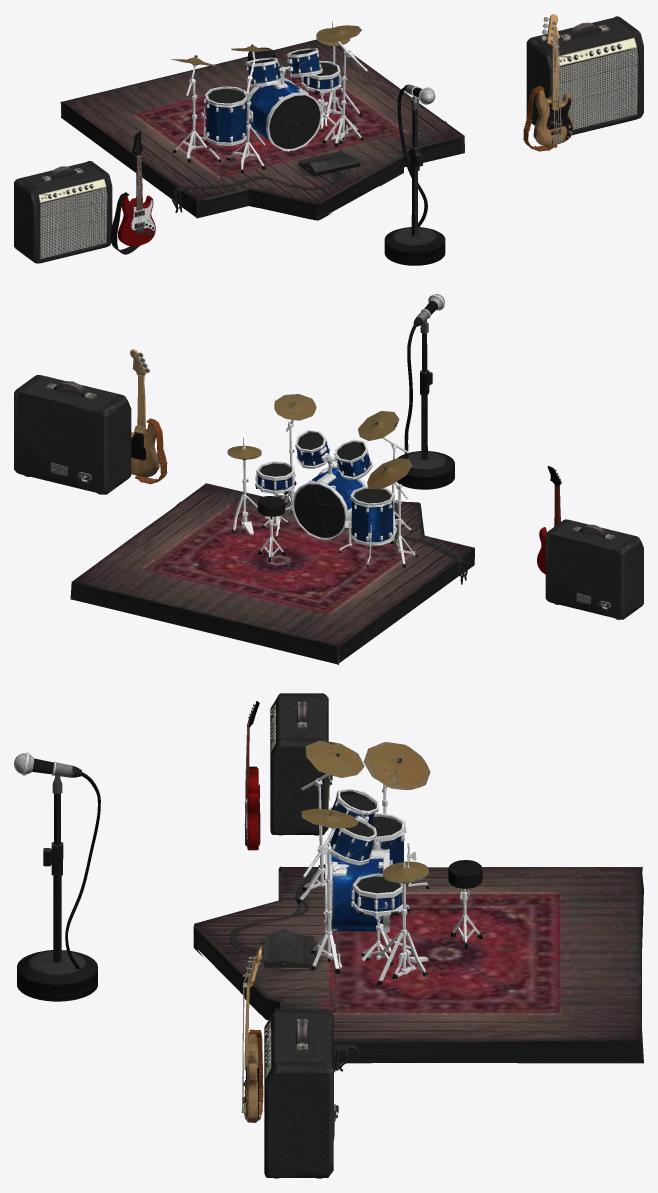
Rendered from stage-96IX1GSD.glb.
The picture shows the model from 3 angles, top to bottom: view 1: azimuth 30°, elevation 25°; view 2: azimuth 150°, elevation 25°; view 3: azimuth 270°, elevation 25°; orthographic projection. The views are drawn at different scales.
Parts seen in each view (by area): view 1: prop-riser, prop-drums, prop-amp-bass, prop-amp-guitar, prop-mic, rest-bass, rest-guitar; view 2: prop-riser, prop-drums, prop-amp-bass, prop-amp-guitar, prop-mic, rest-bass, rest-guitar; view 3: prop-riser, prop-drums, prop-amp-bass, prop-amp-guitar, prop-mic, rest-bass, rest-guitar.
Part boxes in pixels (<box>): prop-riser: <box>60,39,464,220</box>; prop-drums: <box>171,21,367,173</box>; prop-amp-bass: <box>526,16,643,135</box>; prop-amp-guitar: <box>14,161,112,263</box>; prop-mic: <box>384,84,445,265</box>; rest-bass: <box>523,14,573,151</box>; rest-guitar: <box>111,131,155,254</box>; prop-riser: <box>70,483,474,664</box>; prop-drums: <box>227,394,417,567</box>; prop-amp-bass: <box>14,374,131,494</box>; prop-amp-guitar: <box>545,519,643,619</box>; prop-mic: <box>397,294,454,489</box>; rest-bass: <box>130,349,167,484</box>; rest-guitar: <box>537,466,562,574</box>; prop-riser: <box>193,864,643,1072</box>; prop-drums: <box>296,740,483,985</box>; prop-amp-bass: <box>264,1008,338,1178</box>; prop-amp-guitar: <box>270,693,332,835</box>; prop-mic: <box>14,752,100,1001</box>; rest-bass: <box>241,946,263,1122</box>; rest-guitar: <box>244,701,260,850</box>.
Bounding box in the file's own units: 4.78 × 1.3 × 3.22.
Materials: 7 (7 with a texture image).
